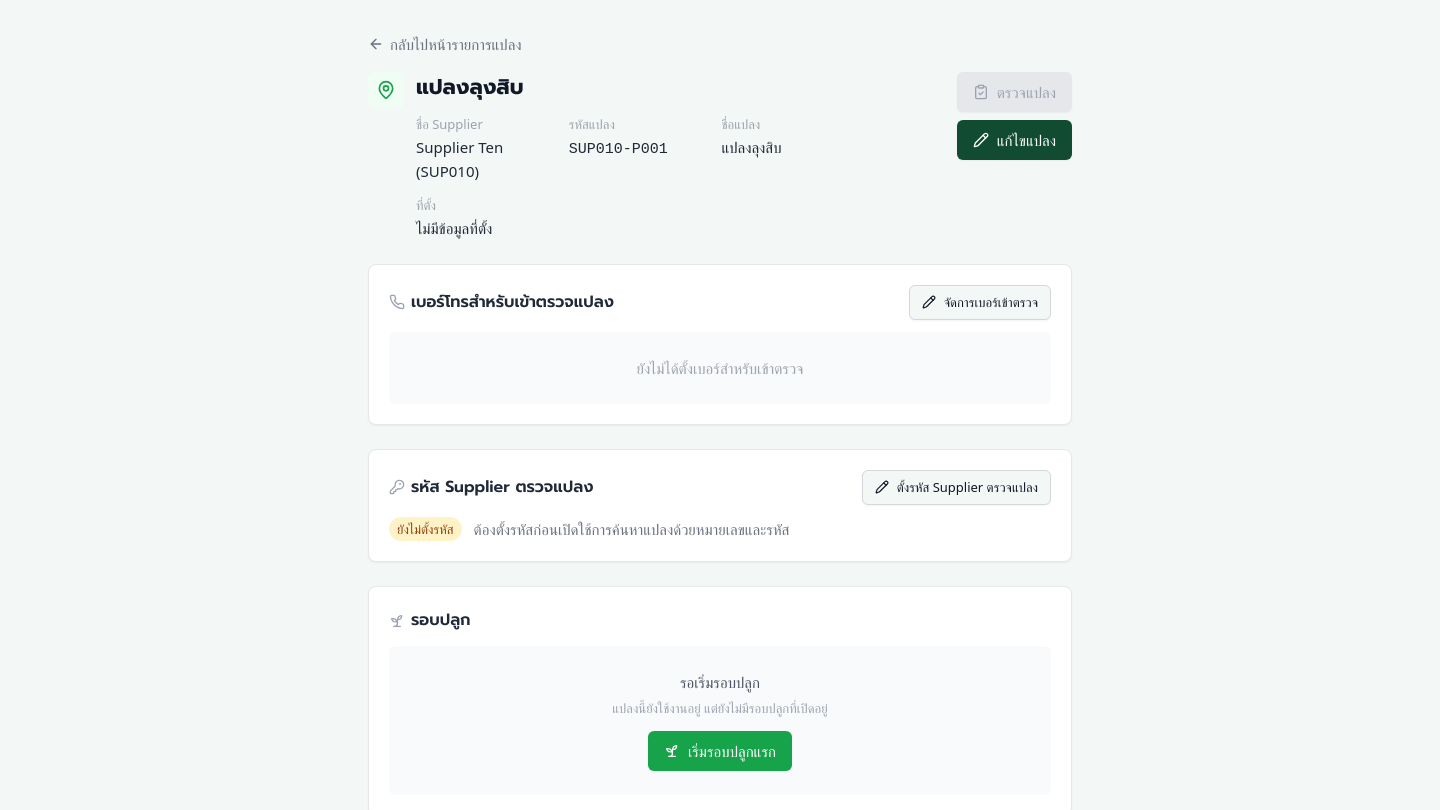
Test: PlotDetail — the "ตั้งรหัส Supplier ตรวจแปลง" button with REAL permission plumbing › opens the modal when that button is clicked (configured=false is not a falsy gate)
What coordinates should you click on to do the following:
click the button "ตั้งรหัส Supplier ตรวจแปลง"
I would click on:
 (956, 487)
Its box is [862, 470, 1051, 505].
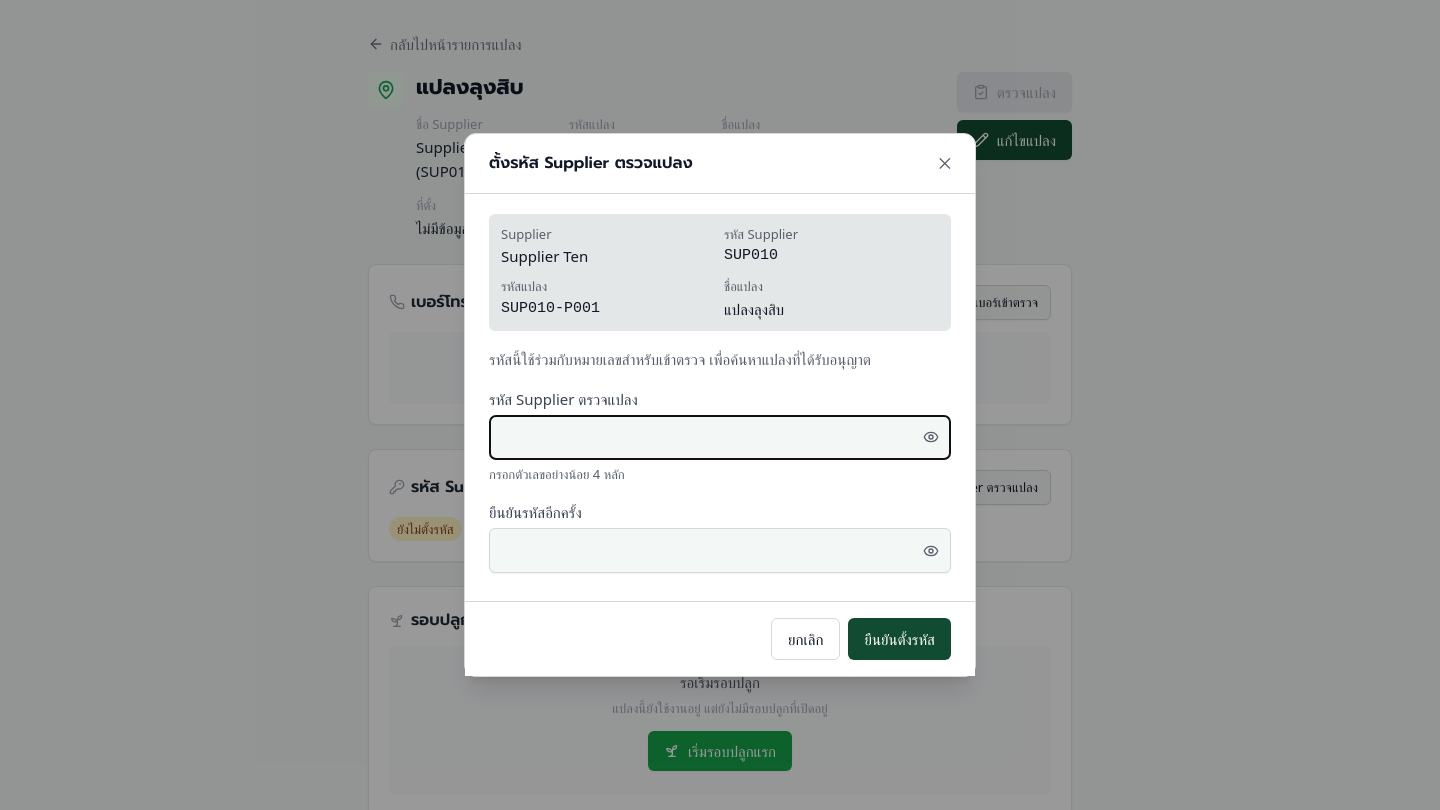
Check: the heading "ตั้งรหัส Supplier ตรวจแปลง" is shown, box [489, 150, 693, 177]
